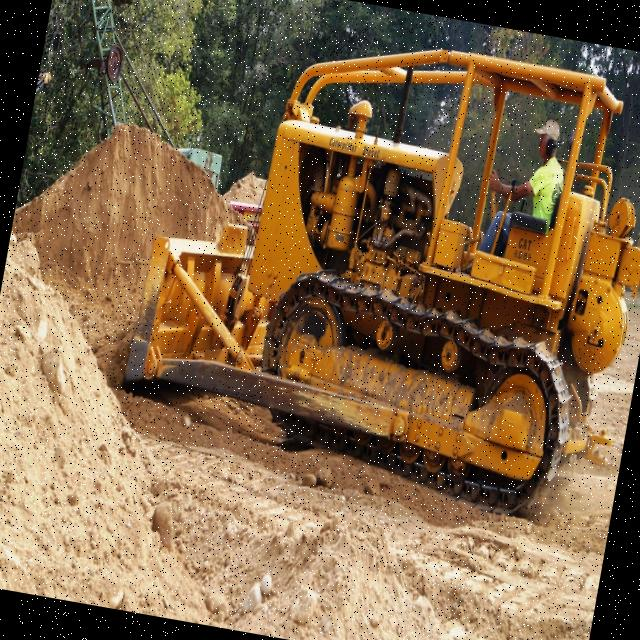Bulldozer: (92, 0, 640, 544)
